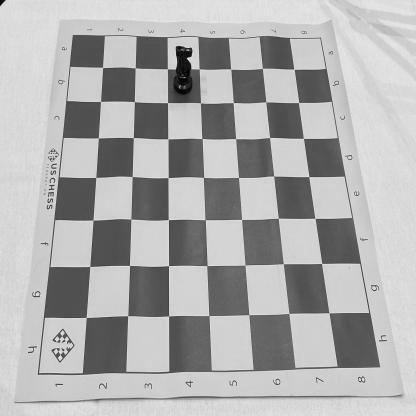black-knight: (172, 44, 194, 96)
